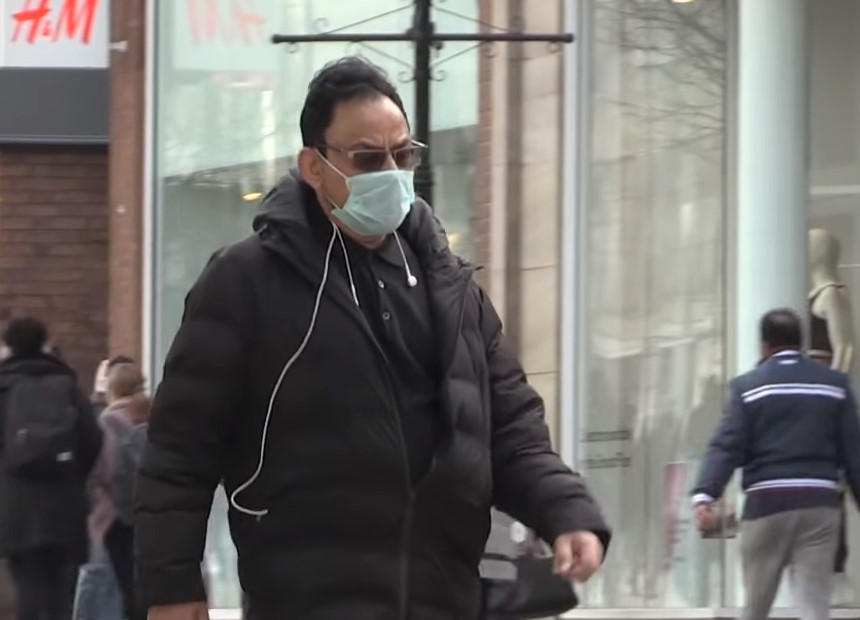face_with_mask: (288, 56, 426, 243)
